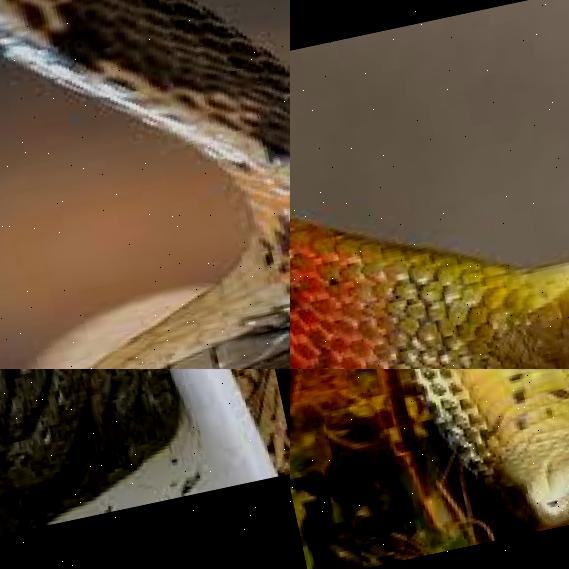snake: (0, 0, 290, 369), (290, 14, 569, 369), (290, 369, 569, 569), (0, 369, 210, 569)
